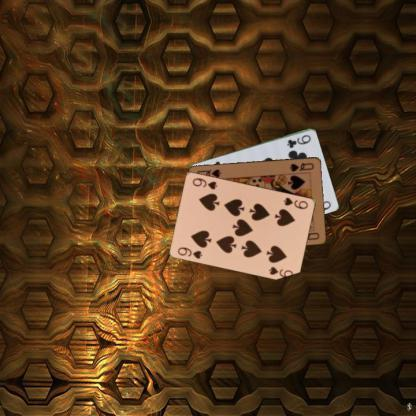9c: (284, 132, 312, 150)
9s: (174, 244, 204, 260), (281, 194, 309, 210)
Qs: (287, 159, 315, 173)
